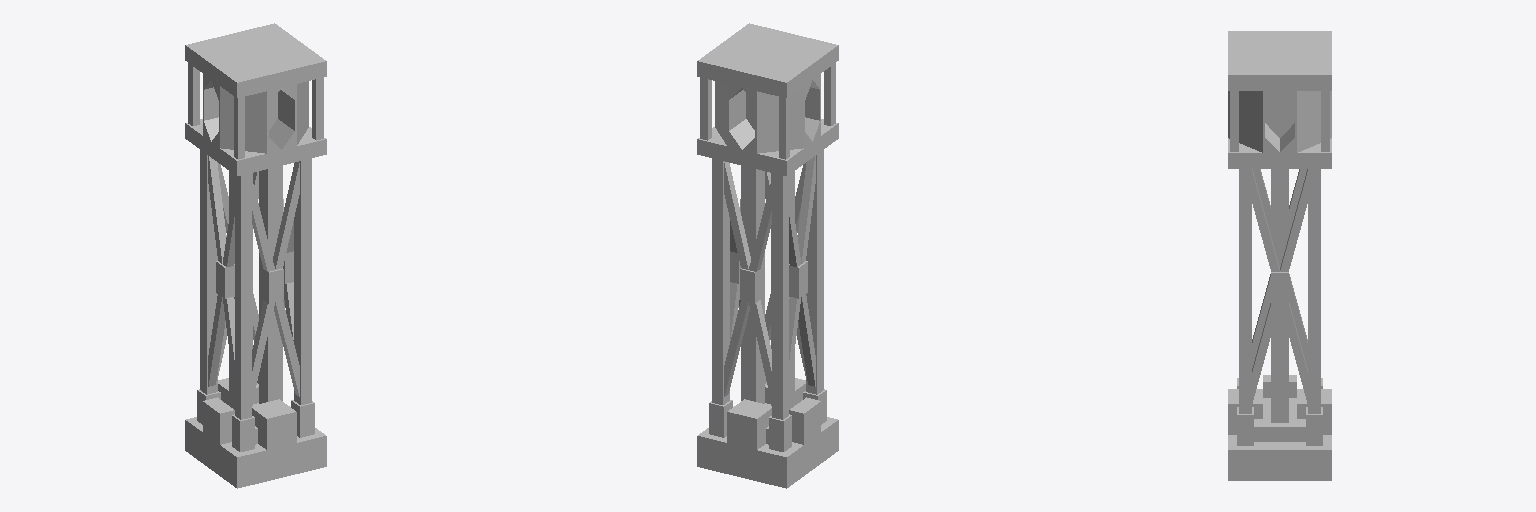
The model's file is solar_tower.obj.
3 views of the same model, side by side, from view 1: azimuth 30°, elevation 25°; view 2: azimuth 150°, elevation 25°; view 3: azimuth 270°, elevation 25° (orthographic).
Parts seen in each view (by area): view 1: solar_tower; view 2: solar_tower; view 3: solar_tower.
Part boxes in pixels (left/top/right/bottom): solar_tower: left=185, top=23, right=326, bottom=488; solar_tower: left=697, top=23, right=838, bottom=488; solar_tower: left=1228, top=31, right=1331, bottom=480.
Size of the model in its own units: 3 by 13 by 3.